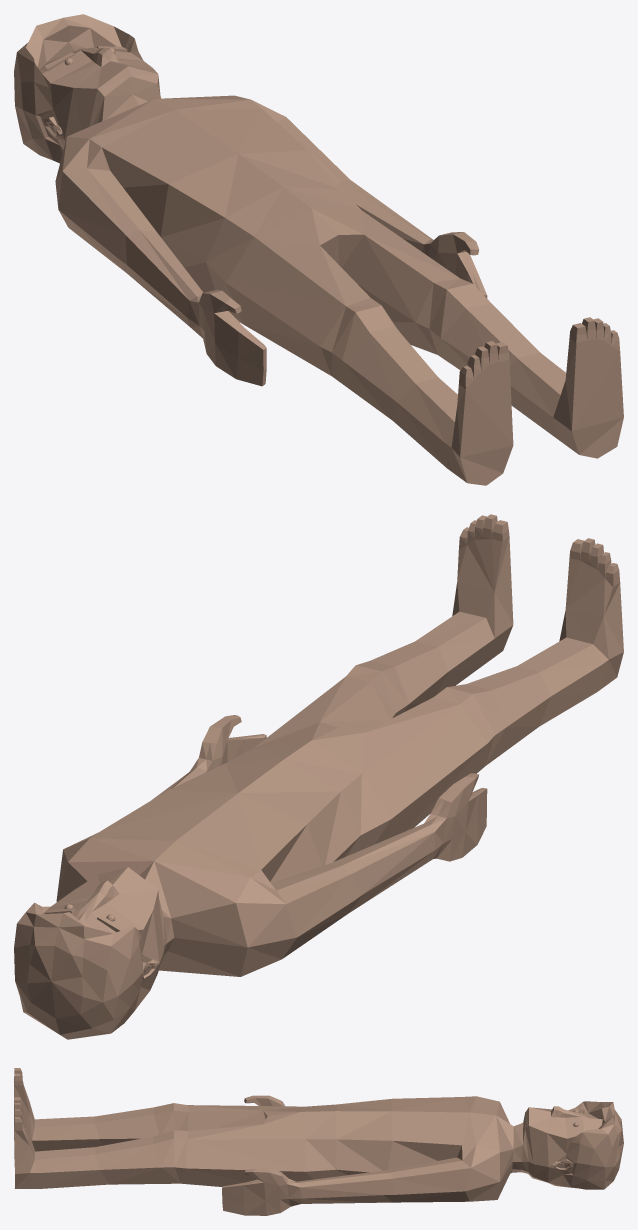
The model's file is SupinePatient.fbx.
3 renders of one model, top to bottom at view 1: azimuth 30°, elevation 25°; view 2: azimuth 150°, elevation 25°; view 3: azimuth 270°, elevation 25°, orthographic. The views are drawn at different scales.
Visible parts, largest first — view 1: SupinePatient; view 2: SupinePatient; view 3: SupinePatient.
Part boxes in pixels (<box>): SupinePatient: <box>14,14,623,485</box>; SupinePatient: <box>14,514,623,1039</box>; SupinePatient: <box>14,1068,623,1215</box>.
Size of the model in its own units: 52.27 by 33.19 by 175.
